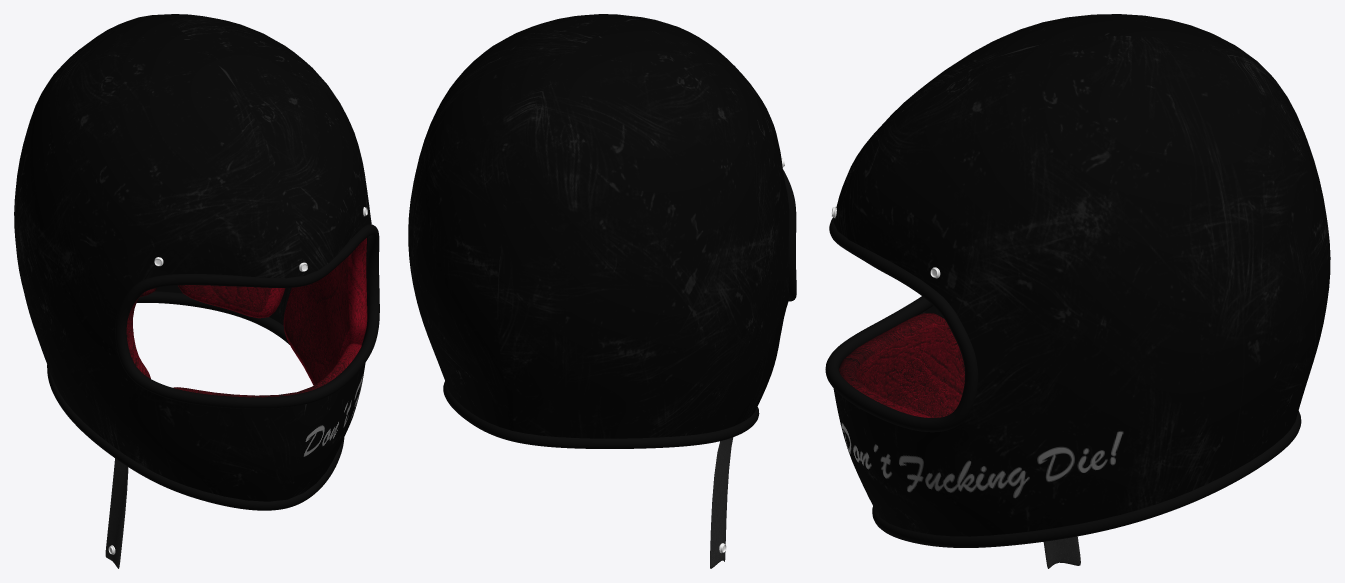
Rendered from vintage_helmet.glb.
The picture shows the model from 3 angles, left to right: view 1: azimuth 30°, elevation 25°; view 2: azimuth 150°, elevation 25°; view 3: azimuth 270°, elevation 25°; orthographic projection. The views are drawn at different scales.
Parts seen in each view (by area): view 1: CASCO001; view 2: CASCO001; view 3: CASCO001.
Part boxes in pixels (<box>): CASCO001: <box>14,14,379,568</box>; CASCO001: <box>408,14,796,568</box>; CASCO001: <box>825,14,1330,568</box>.
Bounding box in the file's own units: 4.66 × 7.32 × 5.68.
Materials: 5 (3 with a texture image).
